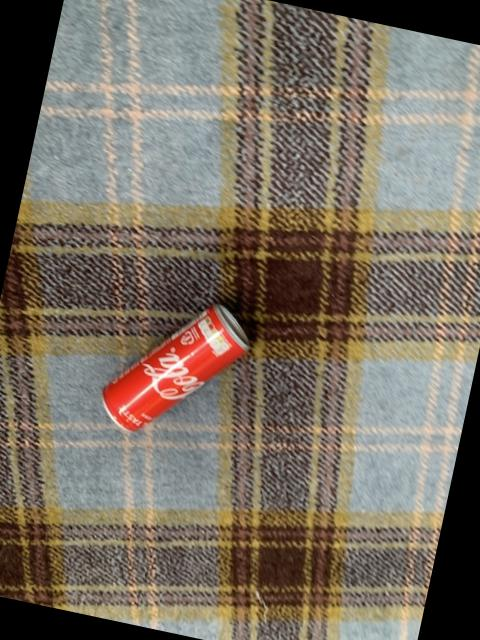metal: (102, 301, 247, 428)
